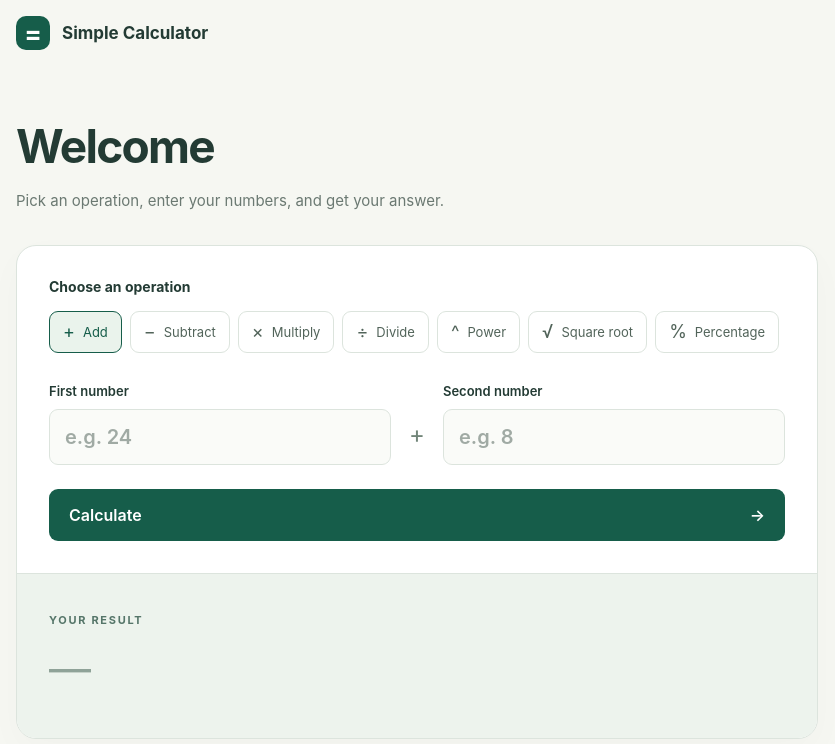
Test: Calculator › calculates Multiply through the API
The width and height of the screenshot is (835, 744).
Type "24" into the number field labelled "First number" at point(220, 437), box [49, 409, 391, 465]
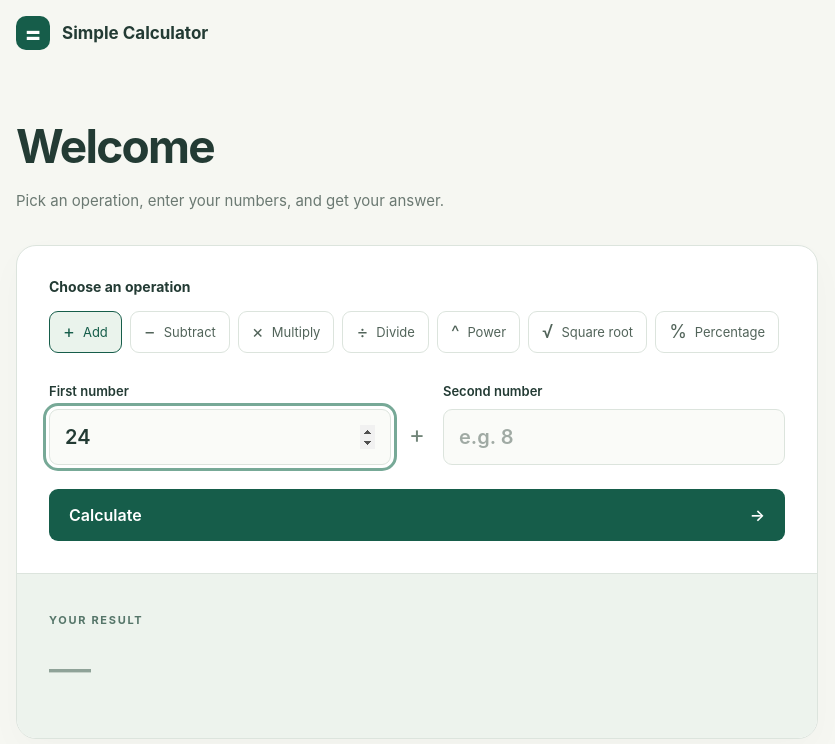
Type "8" into the number field labelled "Second number" at point(614, 437), box [443, 409, 785, 465]
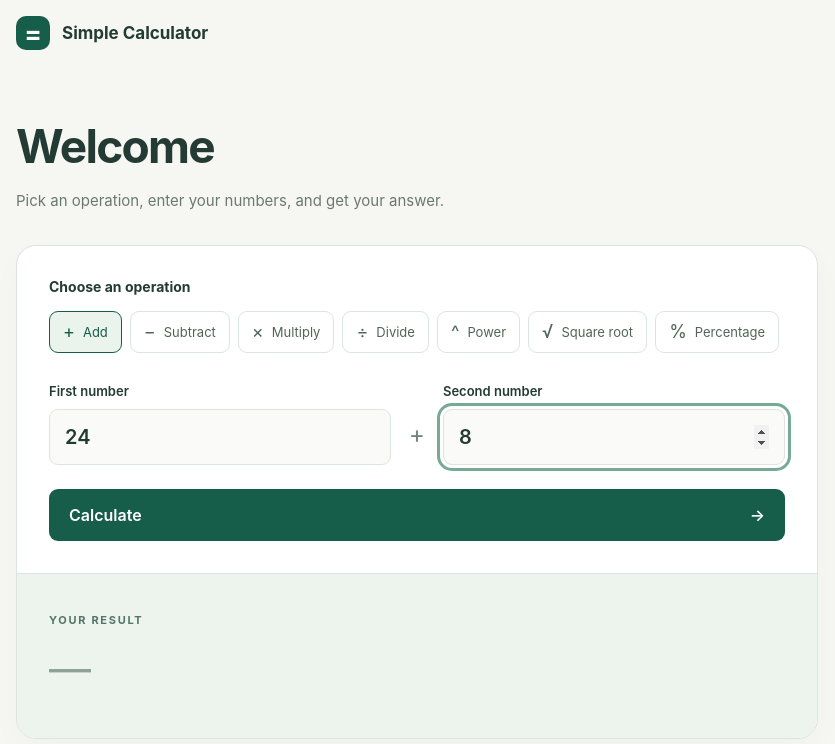
Click the button "× Multiply" at point(286, 332), box [238, 311, 334, 353]
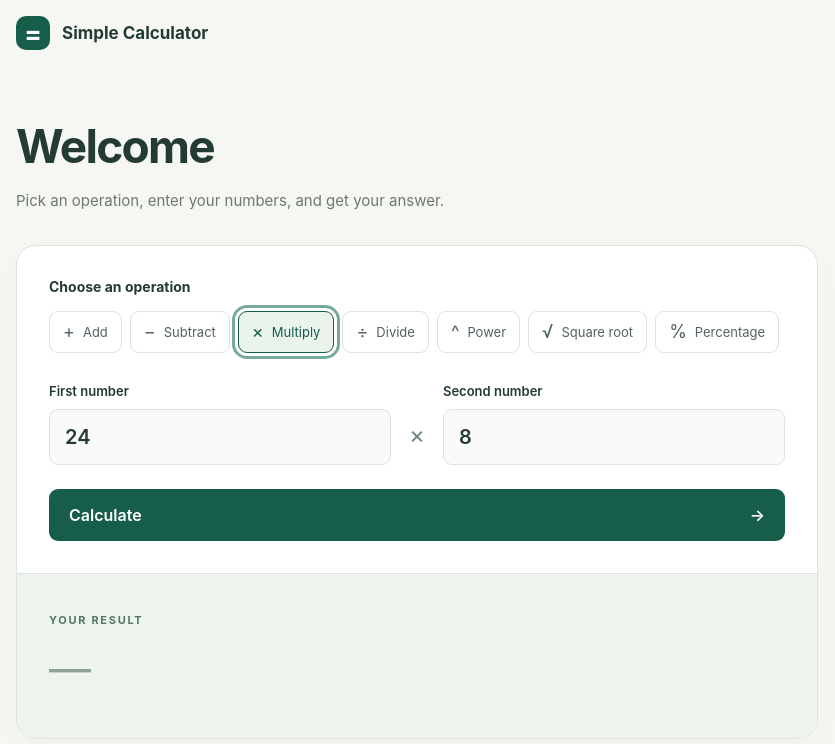
Click the button "Calculate →" at point(105, 515), box [49, 489, 785, 541]
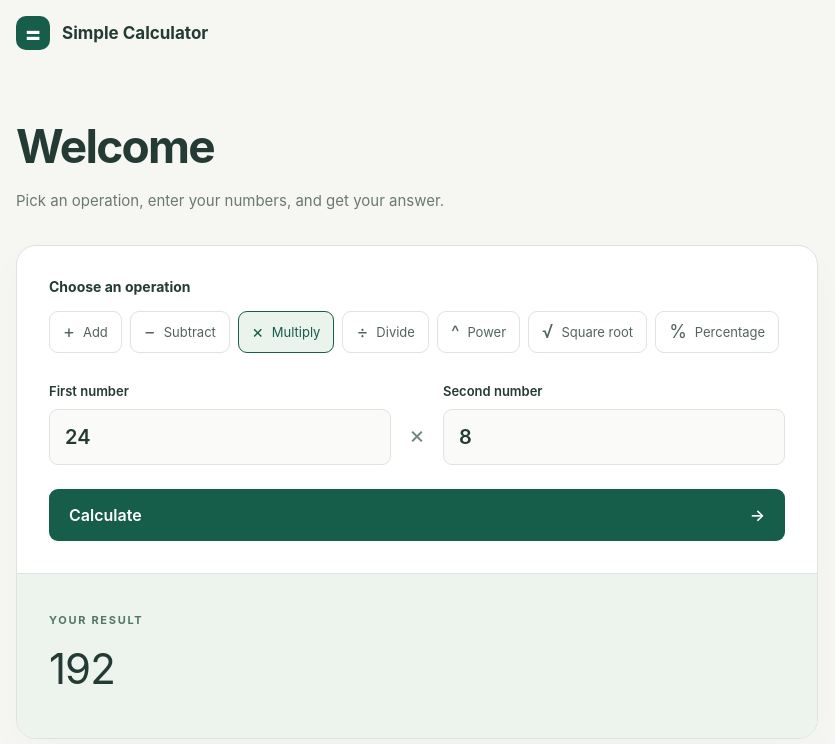
Now the message shows "192", box [49, 643, 115, 694]
